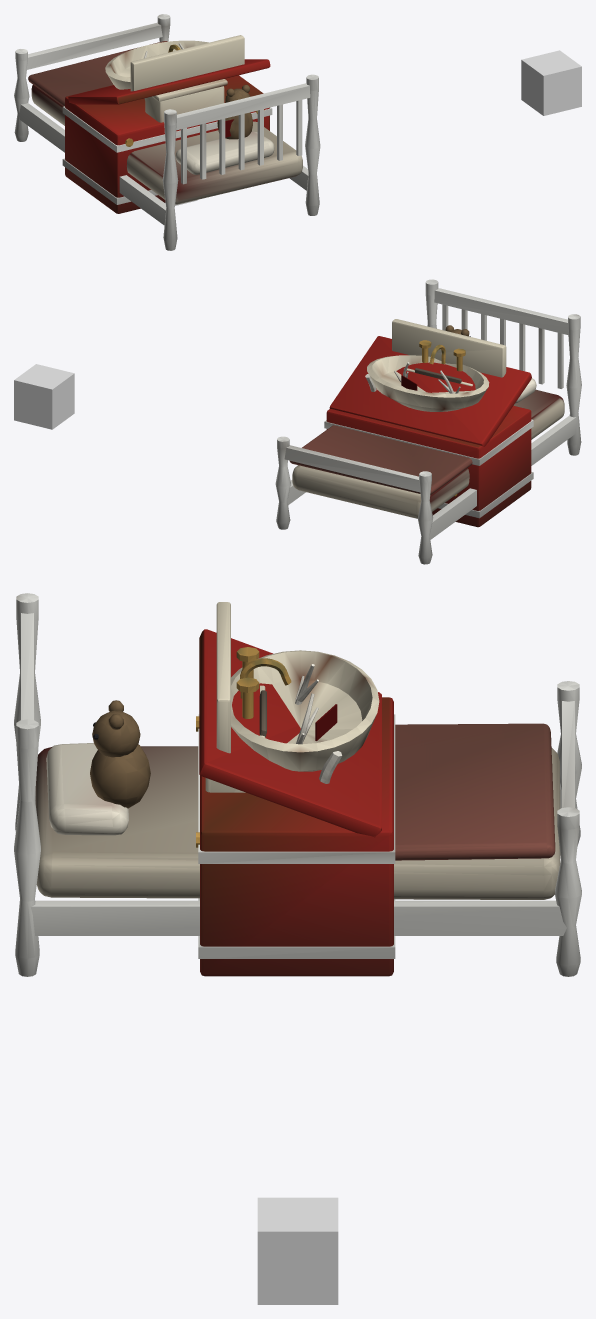
Rendered from CannibalFamilyMeshes4.glb.
The picture shows the model from 3 angles, top to bottom: view 1: azimuth 30°, elevation 25°; view 2: azimuth 150°, elevation 25°; view 3: azimuth 270°, elevation 25°; orthographic projection. The views are drawn at different scales.
Visible parts, largest first — view 1: KidsBed_paint_white, ToyChest_paint_red, KidsBed_linen, BathroomSink_enamel, MeshAxisX, KidsBed_quilt, Toilet_enamel, KidsBed_cloth_white, ToyChest_paint_white, KidsBed_burlap_clean; view 2: ToyChest_paint_red, KidsBed_paint_white, BathroomSink_enamel, KidsBed_linen, KidsBed_quilt, MeshAxisX, ToyChest_paint_white, BathroomSink_brass; view 3: ToyChest_paint_red, KidsBed_paint_white, KidsBed_linen, KidsBed_quilt, BathroomSink_enamel, MeshAxisX, ToyChest_paint_white, KidsBed_cloth_white, KidsBed_burlap_clean, BathroomSink_brass.
Boxes of the visible parts, bbox=[...] form: KidsBed_paint_white: bbox=[14, 14, 320, 250]; ToyChest_paint_red: bbox=[65, 59, 270, 213]; KidsBed_linen: bbox=[31, 85, 302, 204]; BathroomSink_enamel: bbox=[105, 35, 244, 91]; MeshAxisX: bbox=[521, 50, 581, 115]; KidsBed_quilt: bbox=[28, 41, 167, 106]; Toilet_enamel: bbox=[145, 79, 227, 122]; KidsBed_cloth_white: bbox=[175, 131, 274, 174]; ToyChest_paint_white: bbox=[62, 106, 272, 204]; KidsBed_burlap_clean: bbox=[217, 84, 252, 139]; ToyChest_paint_red: bbox=[326, 336, 531, 527]; KidsBed_paint_white: bbox=[275, 279, 581, 564]; BathroomSink_enamel: bbox=[367, 319, 506, 411]; KidsBed_linen: bbox=[292, 389, 564, 518]; KidsBed_quilt: bbox=[289, 425, 472, 494]; MeshAxisX: bbox=[14, 364, 74, 429]; ToyChest_paint_white: bbox=[324, 419, 533, 518]; BathroomSink_brass: bbox=[419, 340, 465, 371]; ToyChest_paint_red: bbox=[199, 629, 393, 976]; KidsBed_paint_white: bbox=[14, 593, 581, 976]; KidsBed_linen: bbox=[35, 746, 560, 899]; KidsBed_quilt: bbox=[395, 723, 555, 860]; BathroomSink_enamel: bbox=[216, 602, 379, 771]; MeshAxisX: bbox=[257, 1197, 338, 1304]; ToyChest_paint_white: bbox=[198, 714, 395, 958]; KidsBed_cloth_white: bbox=[46, 743, 128, 835]; KidsBed_burlap_clean: bbox=[90, 700, 150, 808]; BathroomSink_brass: bbox=[236, 647, 291, 718].
Size of the model in its own units: 12.53 by 4.05 by 7.03.
